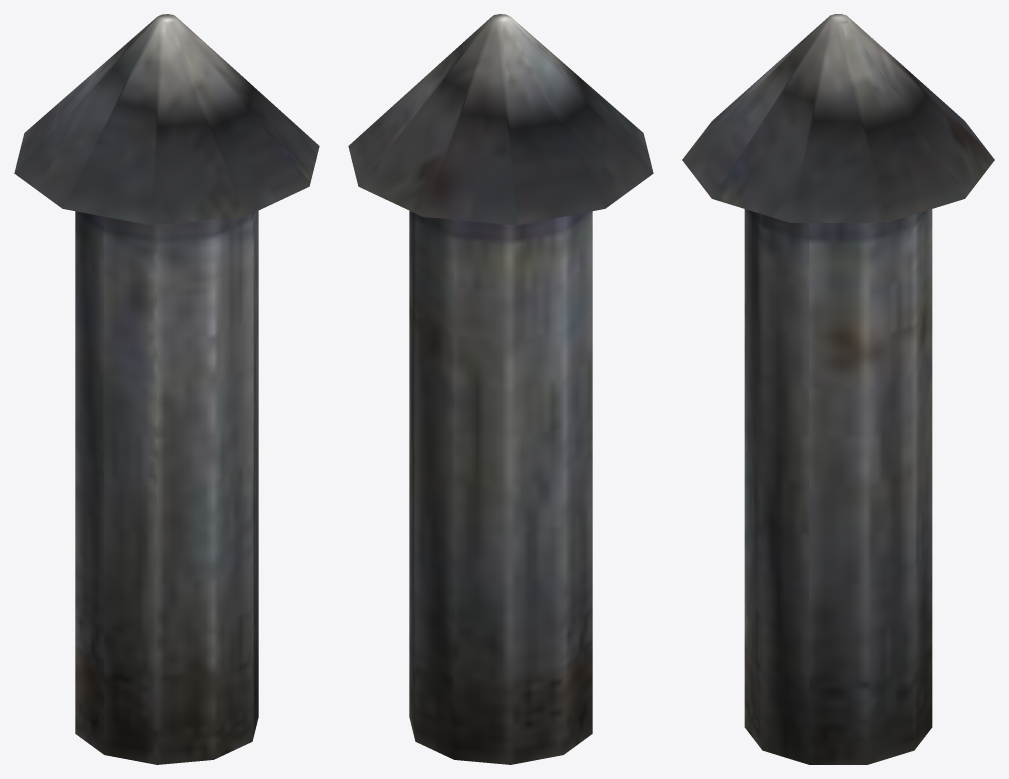
The model's file is roof_vent.glb.
3 renders of one model, left to right at view 1: azimuth 30°, elevation 25°; view 2: azimuth 150°, elevation 25°; view 3: azimuth 270°, elevation 25°, orthographic.
Parts seen in each view (by area): view 1: roof_vent; view 2: roof_vent; view 3: roof_vent.
Boxes of the visible parts, x1,y1,x2,y2 form: roof_vent: [14, 14, 319, 764]; roof_vent: [348, 14, 653, 764]; roof_vent: [682, 14, 994, 764].
Size of the model in its own units: 0.5706 by 1.5 by 0.6.
Materials: 1 (1 with a texture image).
